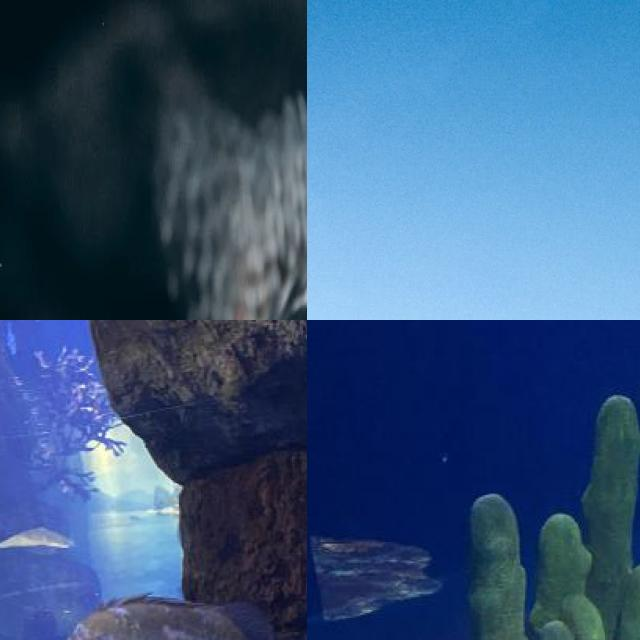fish: (0, 0, 307, 320), (343, 183, 640, 320), (22, 583, 307, 640)
